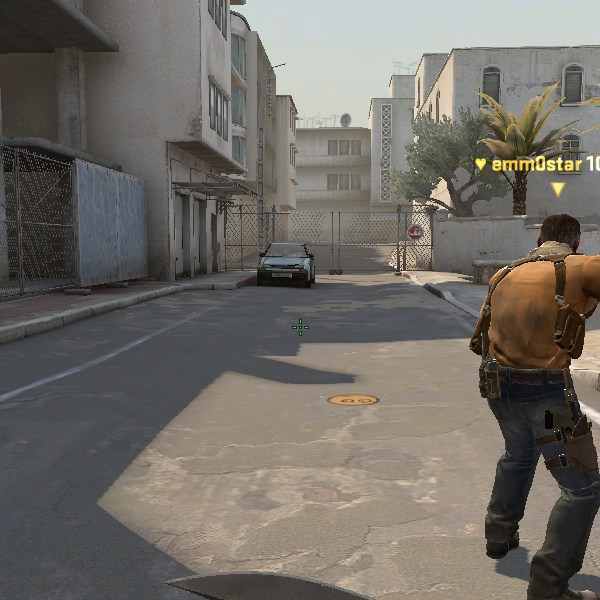t_body: (442, 190, 600, 599)
t_head: (522, 205, 589, 266)
